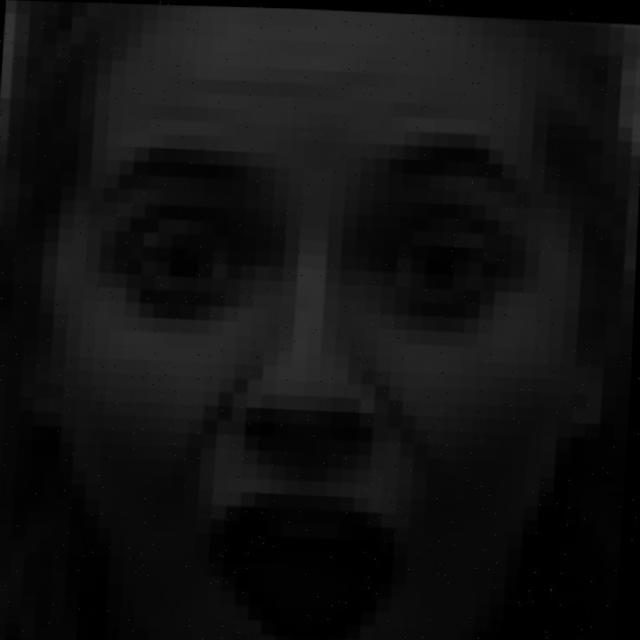Surprised: (39, 79, 610, 638)
